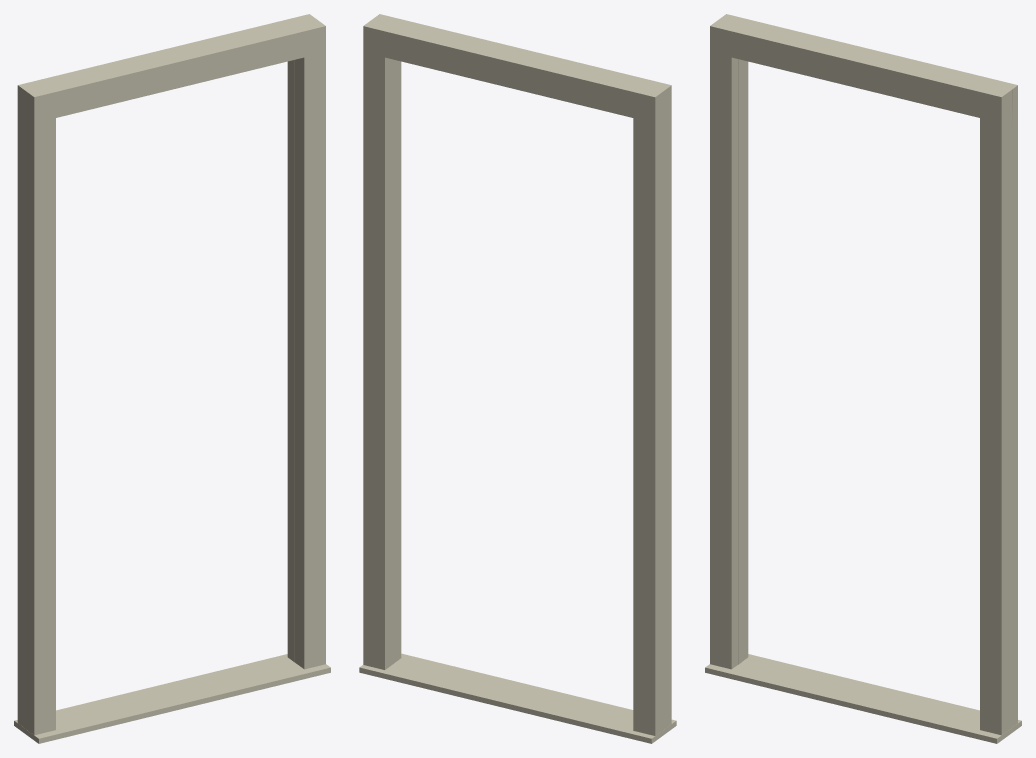
Rendered from InSideDoorCover.fbx.
3 views of the same model, side by side, from view 1: azimuth 30°, elevation 25°; view 2: azimuth 150°, elevation 25°; view 3: azimuth 330°, elevation 25° (orthographic).
Visible parts, largest first — view 1: Cover.002; view 2: Cover.002; view 3: Cover.002.
Boxes of the visible parts, <box> form: Cover.002: <box>14,14,330,743</box>; Cover.002: <box>359,14,676,743</box>; Cover.002: <box>705,14,1021,743</box>.
Size of the model in its own units: 100 by 211 by 14.68.
